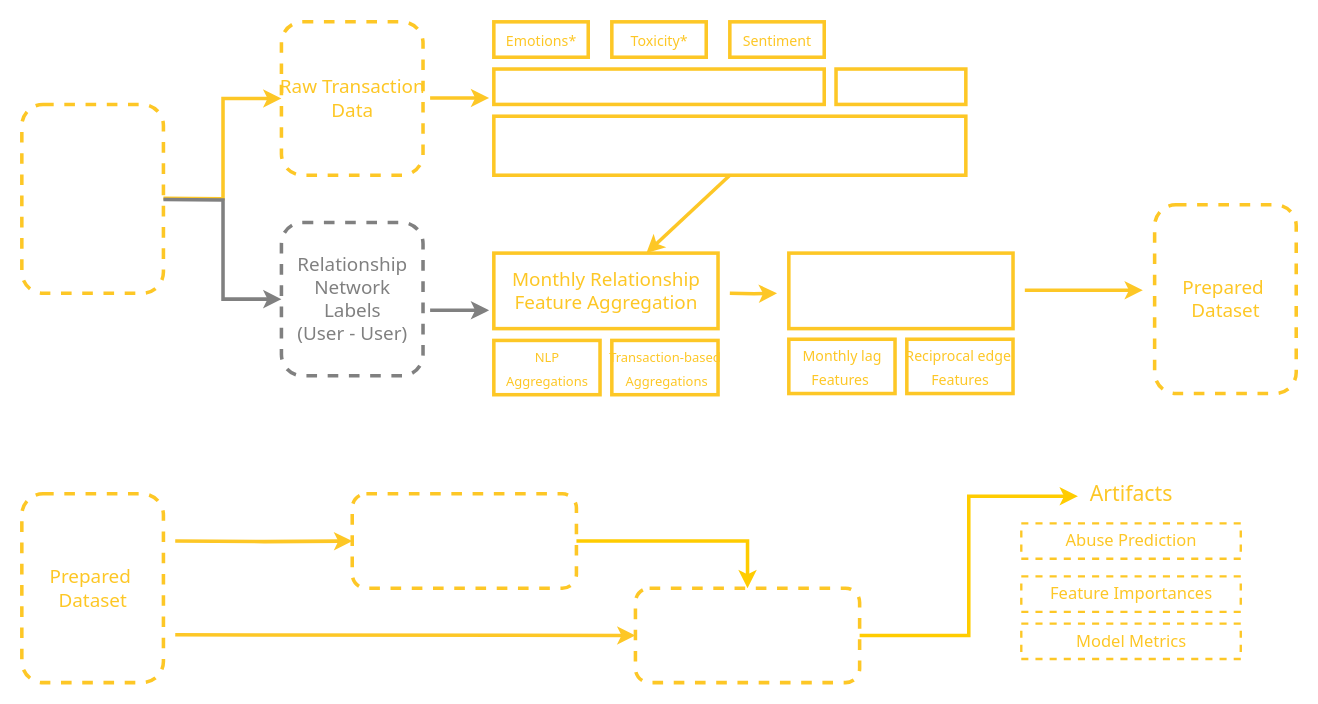
Image size: 1318x704. Some labels were removed from this diagram. Each missing label, with the centre of its shape:
Banking Data: the point at 92,198
NLP Feature Extraction: the point at 729,145
Pre-trained NLP Models: the point at 658,86
Scoring: the point at 747,635
Simple Text: the point at 900,86
Supervised Model Training: the point at 464,540
Time and Reciprocal Features: the point at 900,290
